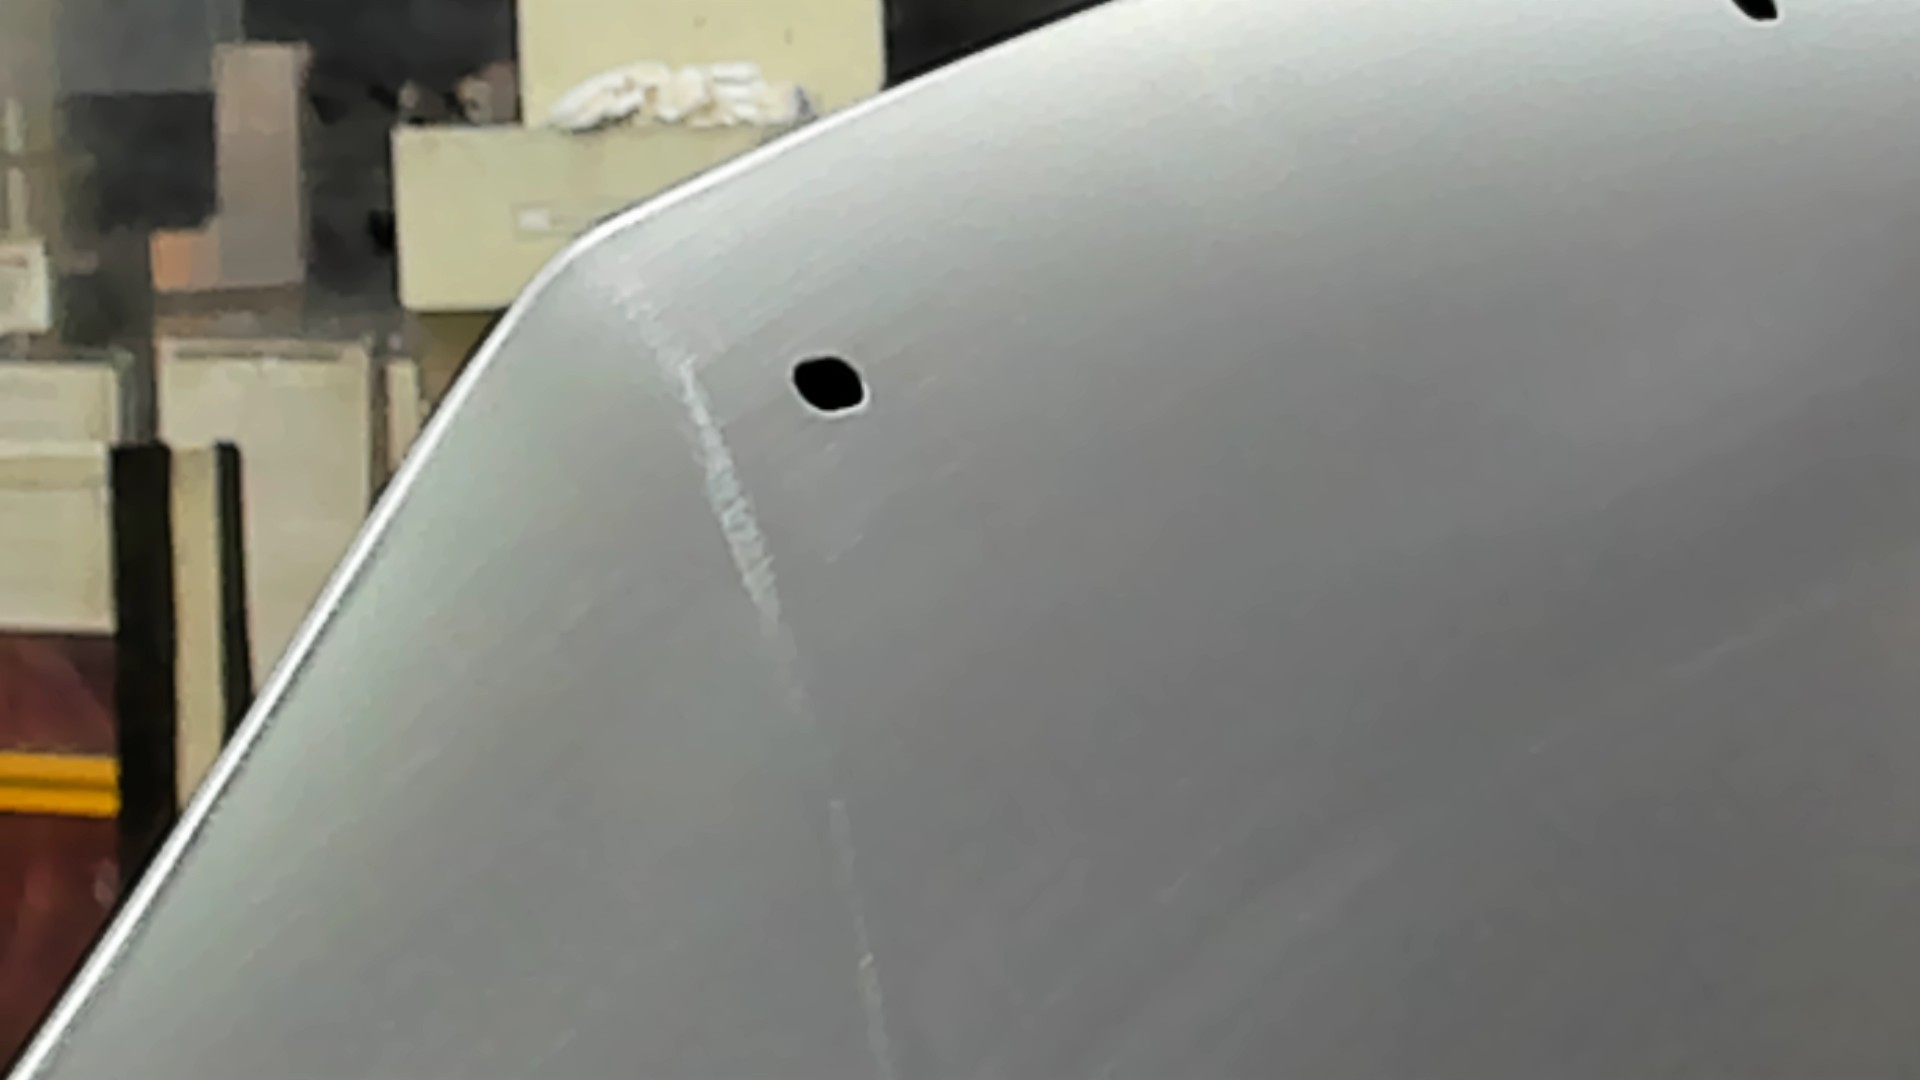amorfo: (789, 347, 876, 422), (1721, 1, 1792, 26)
